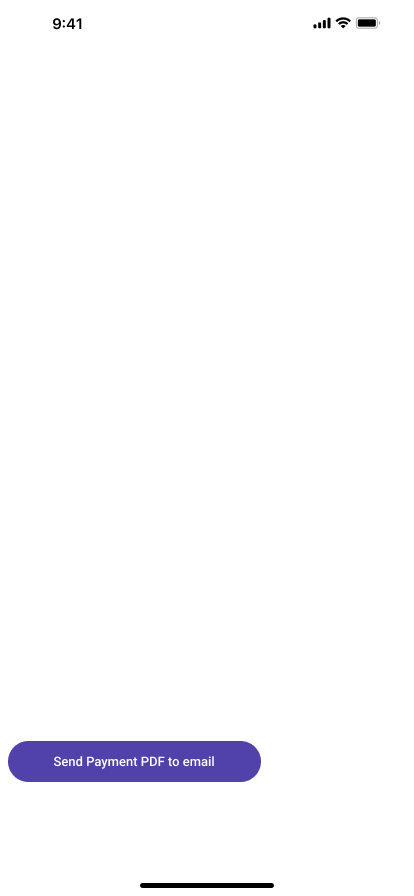Buttons: (8, 741, 261, 782)
Home Indicator: (0, 862, 414, 896)
Status Bar: (0, 0, 414, 44)
